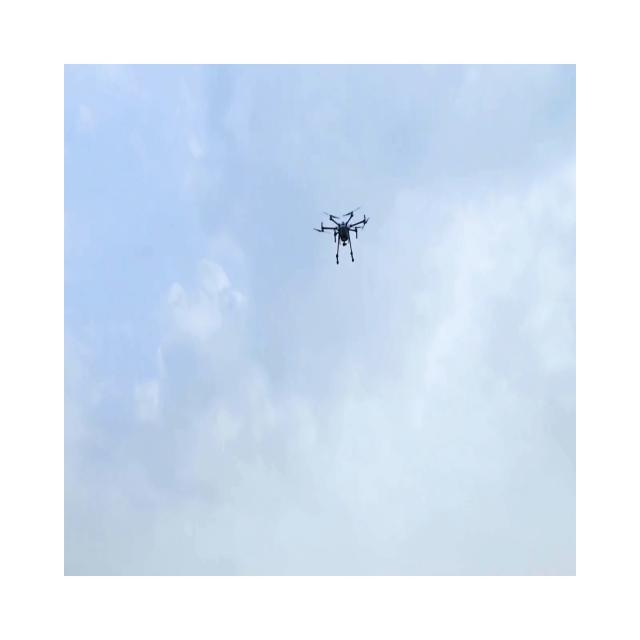drone: (312, 206, 370, 264)
